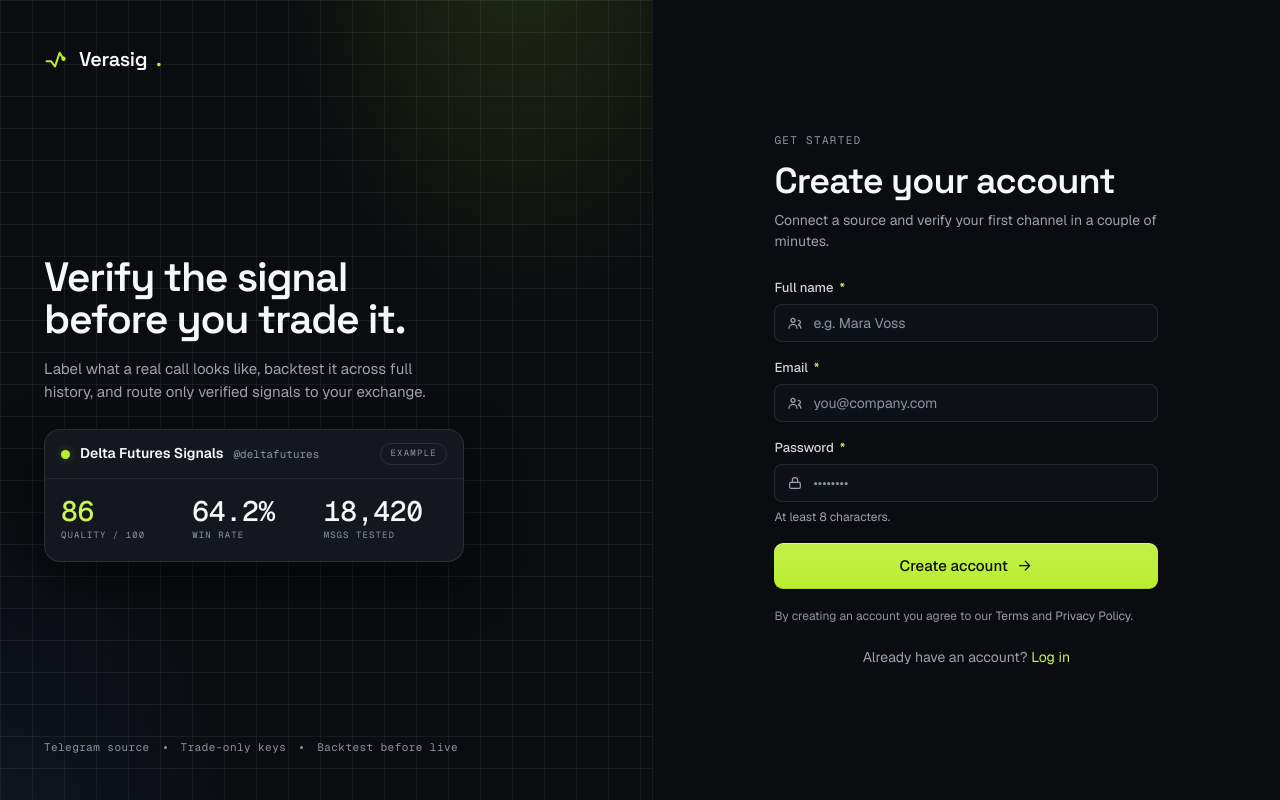
Test: AppRoutes › navigates from backend register submit to the product shell
The image size is (1280, 800).
Type "Ada Lovelace" into the field labelled "Full name" at (978, 323), box x1=811 y1=313 x2=1145 y2=333
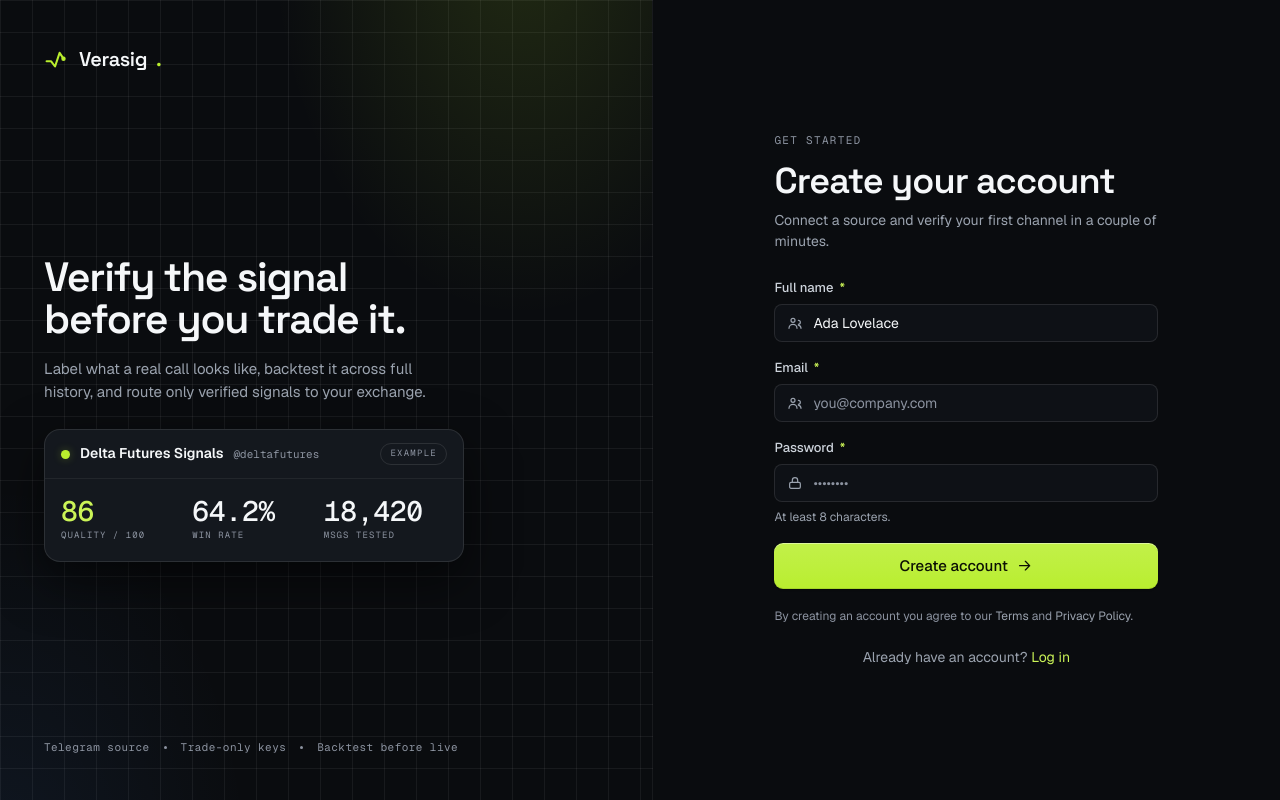
Type "ada@example.com" into the field labelled "Email" at (978, 403), box x1=811 y1=393 x2=1145 y2=413
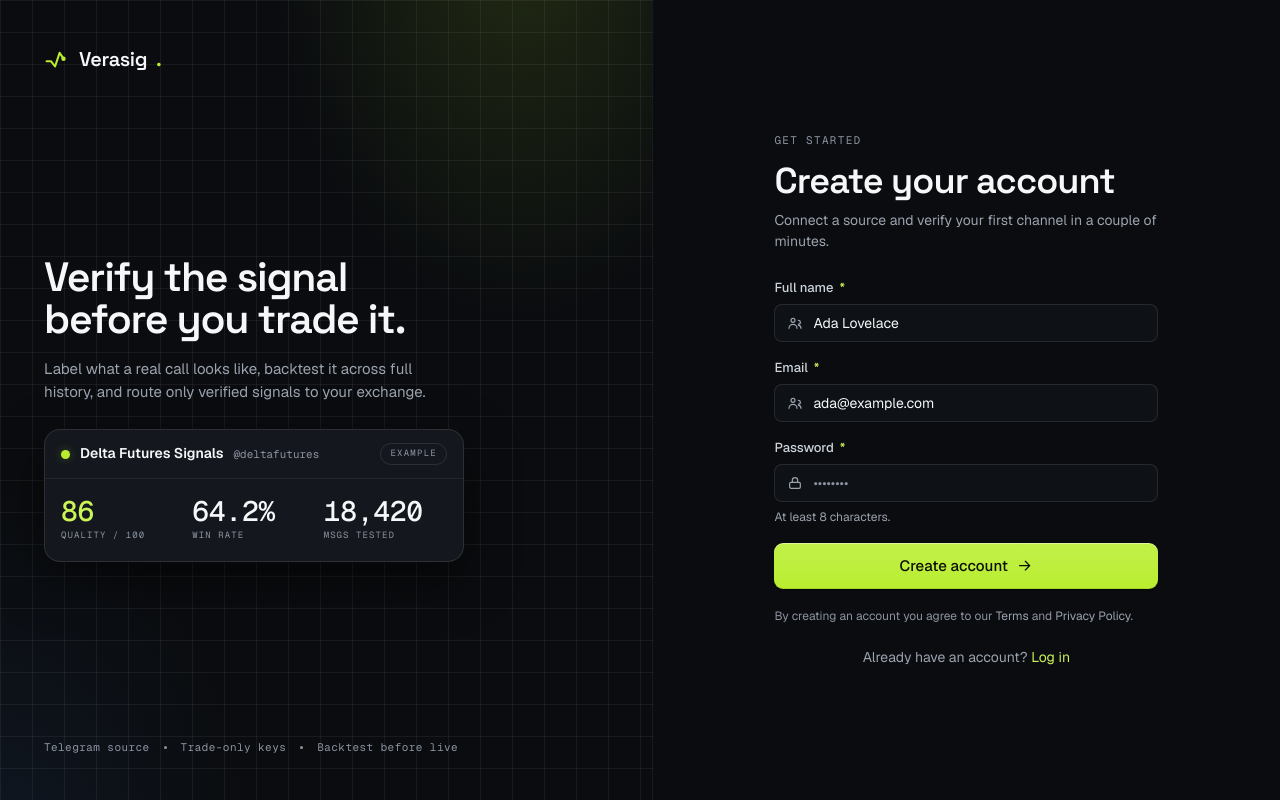
Type "correct horse battery staple" into the password field labelled "Password" at (978, 483), box x1=811 y1=473 x2=1145 y2=493
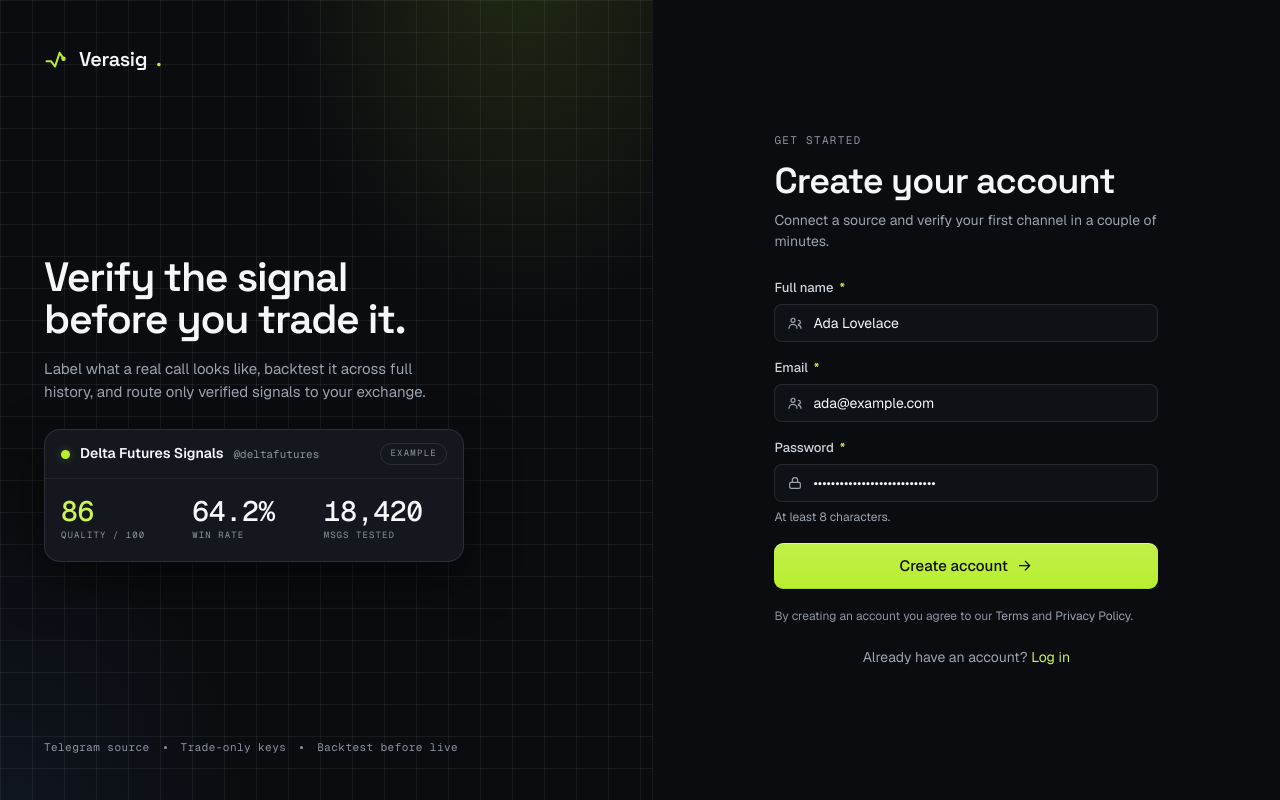
Submit the text "Create account", box x1=774 y1=278 x2=1158 y2=589
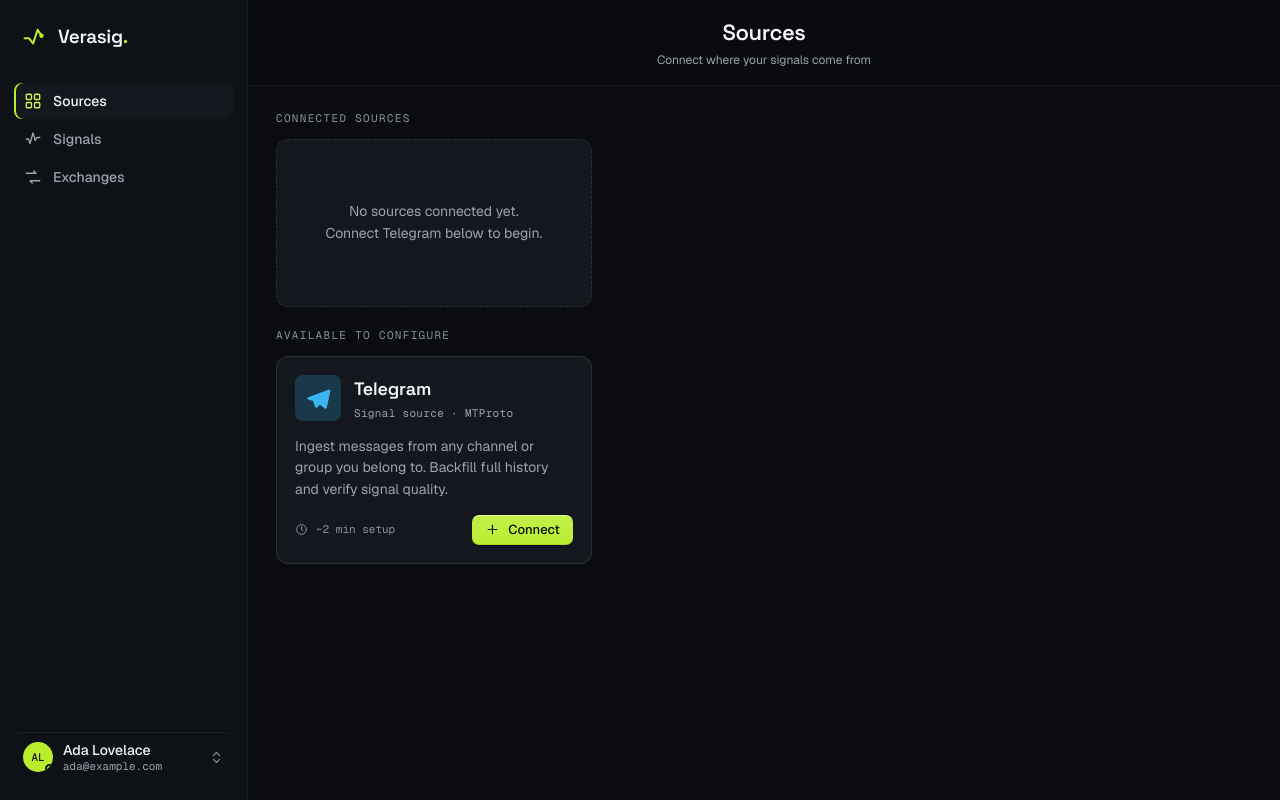
Now the text "Sources" below "Verasig" is shown, box x1=53 y1=92 x2=107 y2=110
Now the text "ada@example.com" is shown, box x1=63 y1=759 x2=162 y2=773
